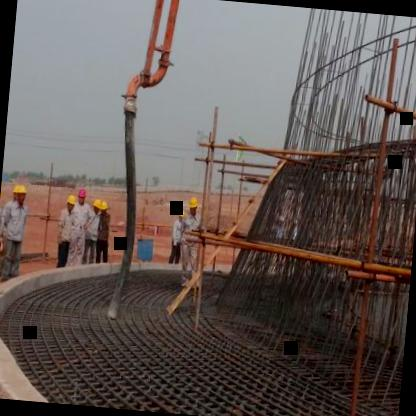helmet: (64, 191, 78, 215), (188, 192, 200, 214), (76, 184, 88, 206), (15, 184, 27, 204), (99, 198, 110, 218), (92, 197, 102, 214), (175, 208, 186, 222)
